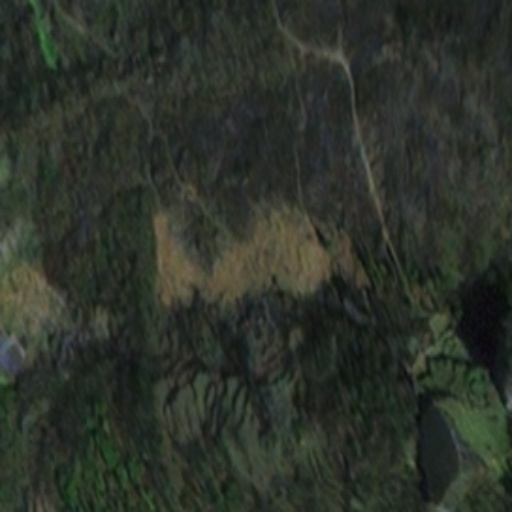landslide: (148, 192, 336, 307)
